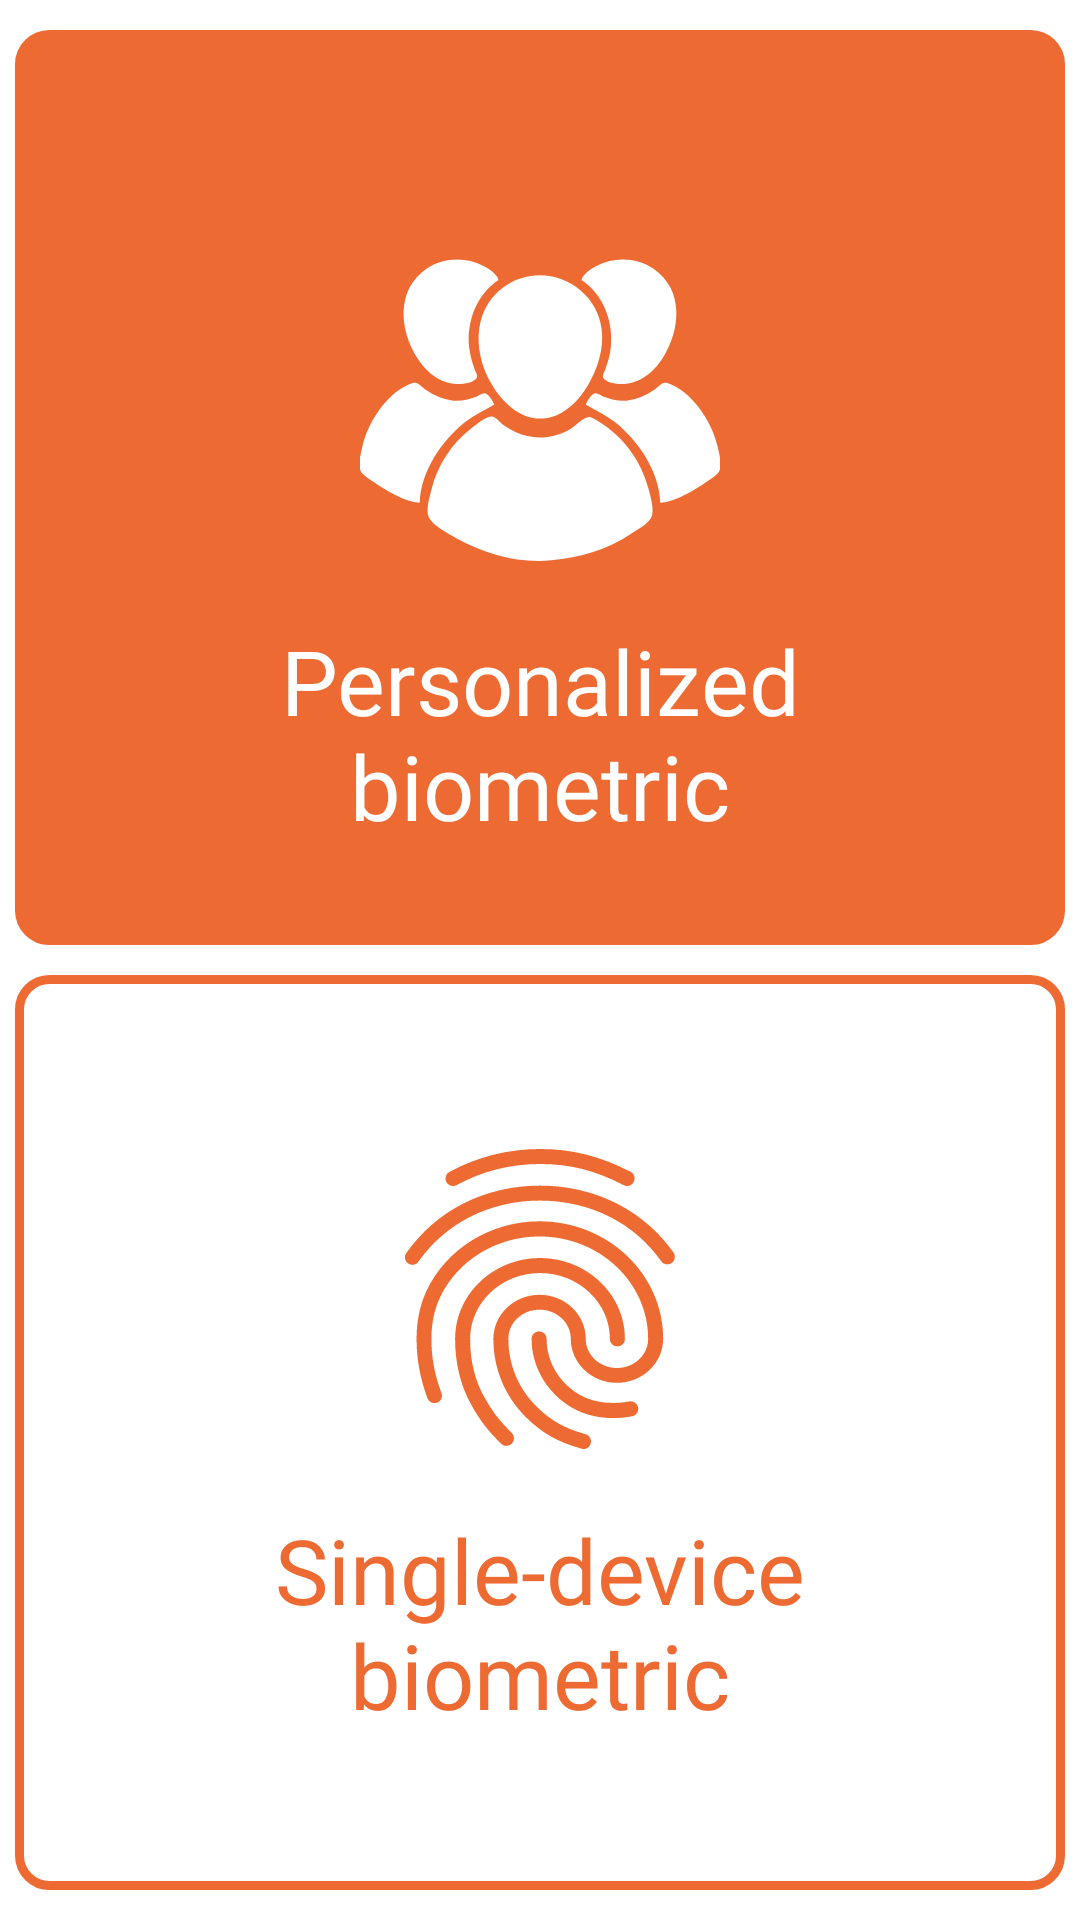

Icons on this 1080 × 1920 Android screen, each with its box as (x1, y1, x2, y2):
fingerprint: (405, 1149, 675, 1449)
